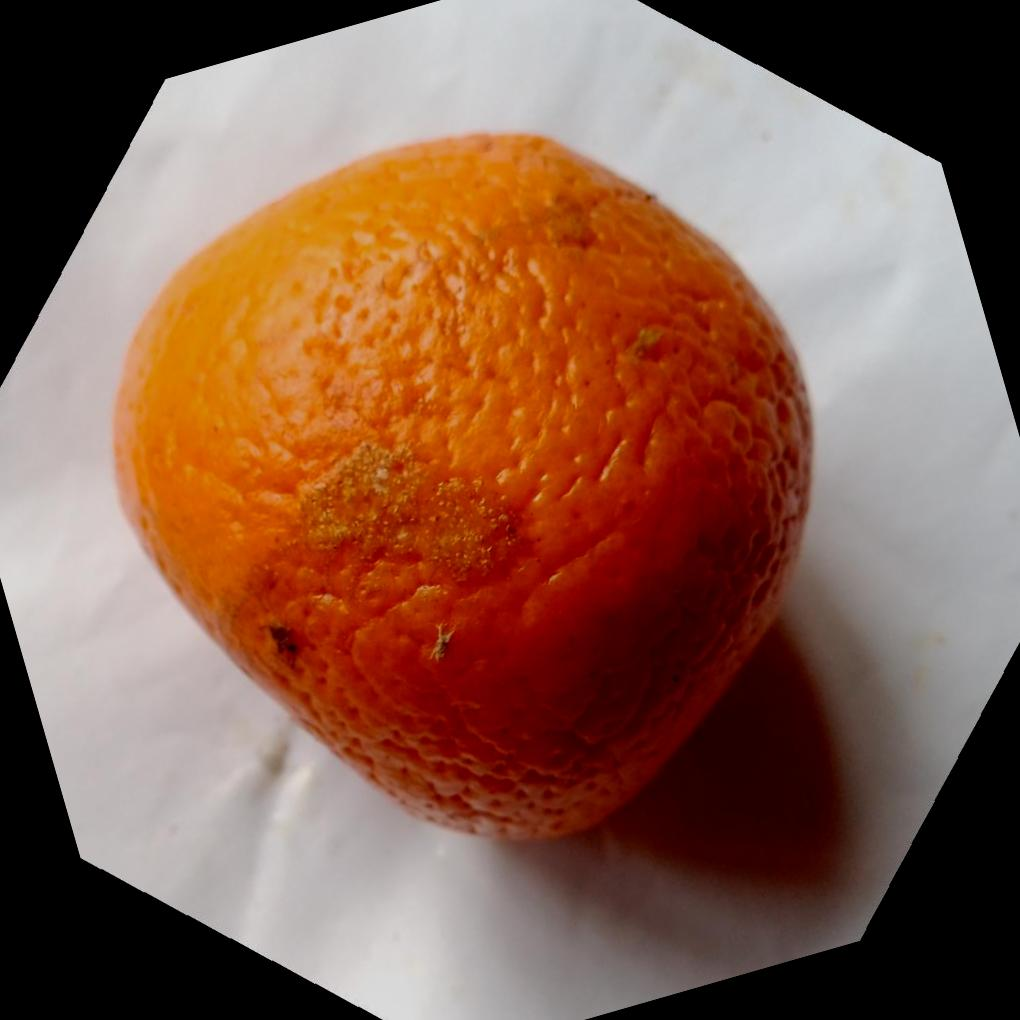FreshOrange: (102, 128, 812, 845)
